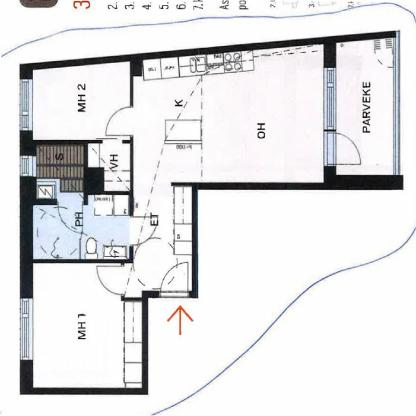door: (321, 129, 364, 169), (159, 257, 192, 299), (96, 265, 133, 298), (105, 104, 133, 138), (130, 217, 158, 244)
window: (18, 297, 34, 363), (324, 66, 337, 134), (18, 79, 30, 133), (18, 154, 30, 176)
zone: (135, 45, 327, 290), (31, 263, 145, 392), (31, 66, 139, 143), (336, 41, 396, 176), (34, 187, 130, 260), (38, 143, 84, 200), (87, 144, 133, 194)
